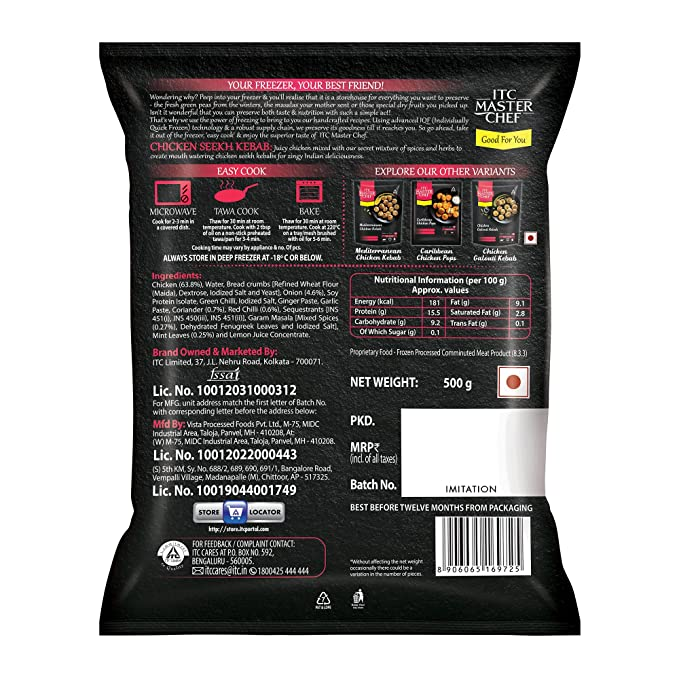non_veg: (494, 364, 534, 403), (525, 230, 543, 249)
